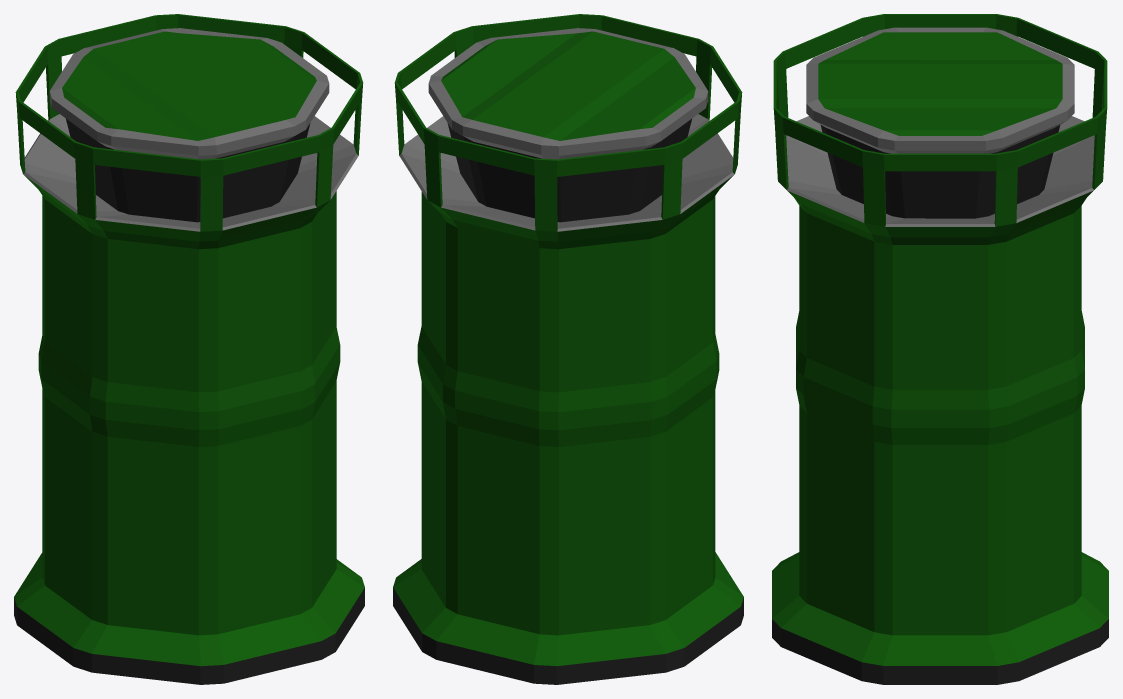
The model's file is Puisto_Roskakori.fbx.
3 renders of one model, left to right at view 1: azimuth 30°, elevation 25°; view 2: azimuth 150°, elevation 25°; view 3: azimuth 270°, elevation 25°, orthographic.
Visible parts, largest first — view 1: Roskakori; view 2: Roskakori; view 3: Roskakori.
Part boxes in pixels (bbox=[...]): Roskakori: bbox=[14, 14, 364, 684]; Roskakori: bbox=[393, 14, 743, 684]; Roskakori: bbox=[772, 14, 1108, 684].
Size of the model in its own units: 69.47 by 121 by 69.47.
